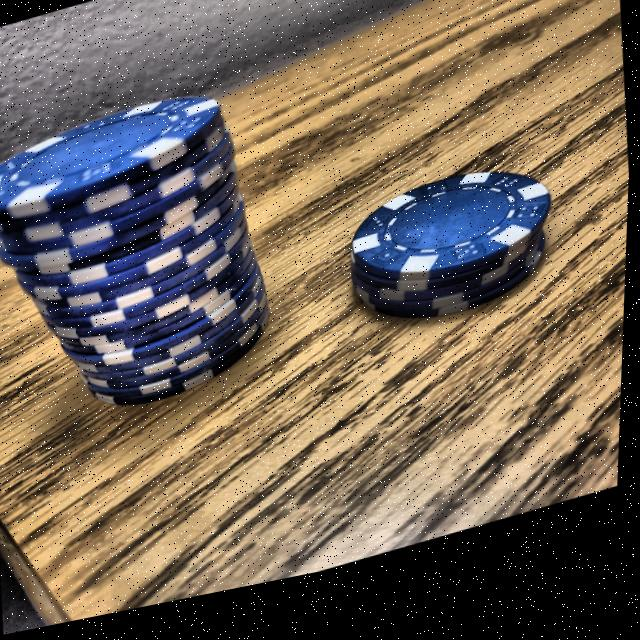Chip: (0, 31, 332, 486), (339, 157, 572, 378)
